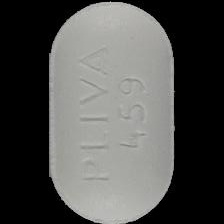54868-0029: (0, 0, 224, 224)
